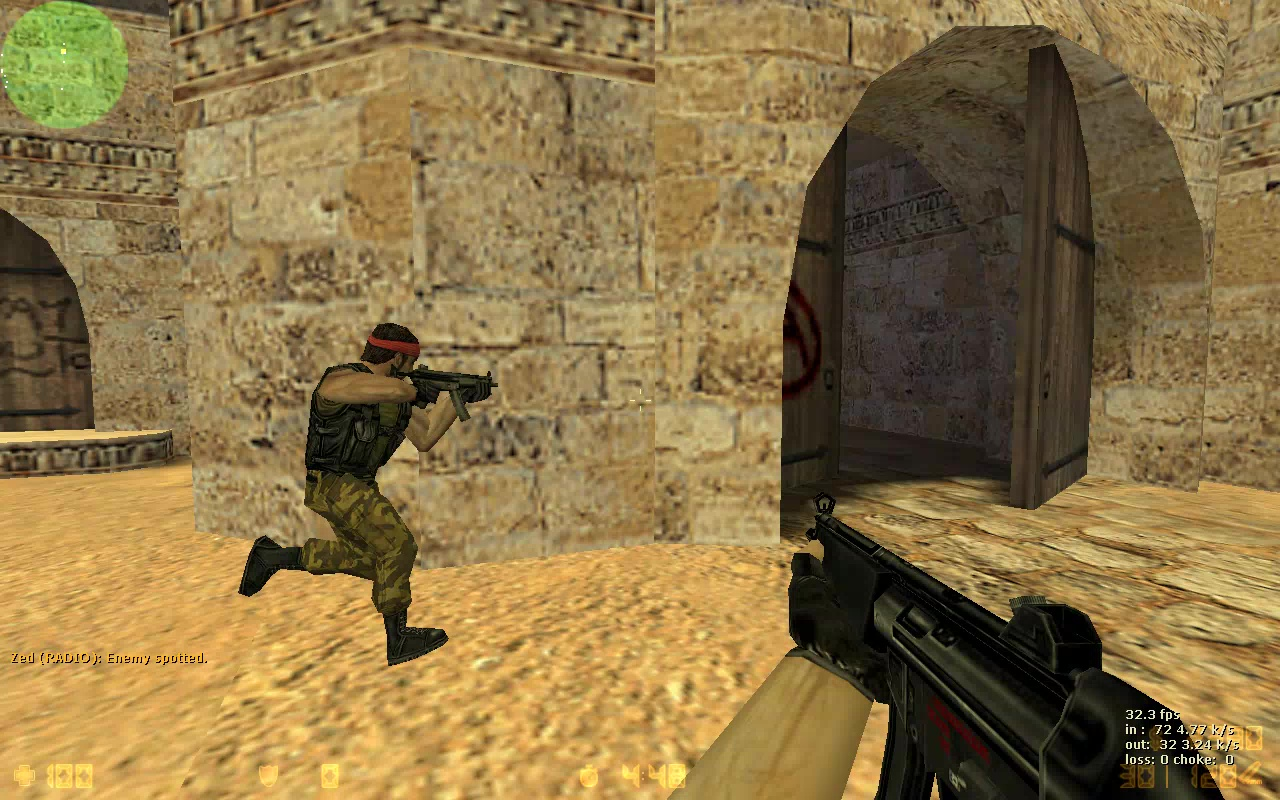terr1: (231, 325, 486, 664)
